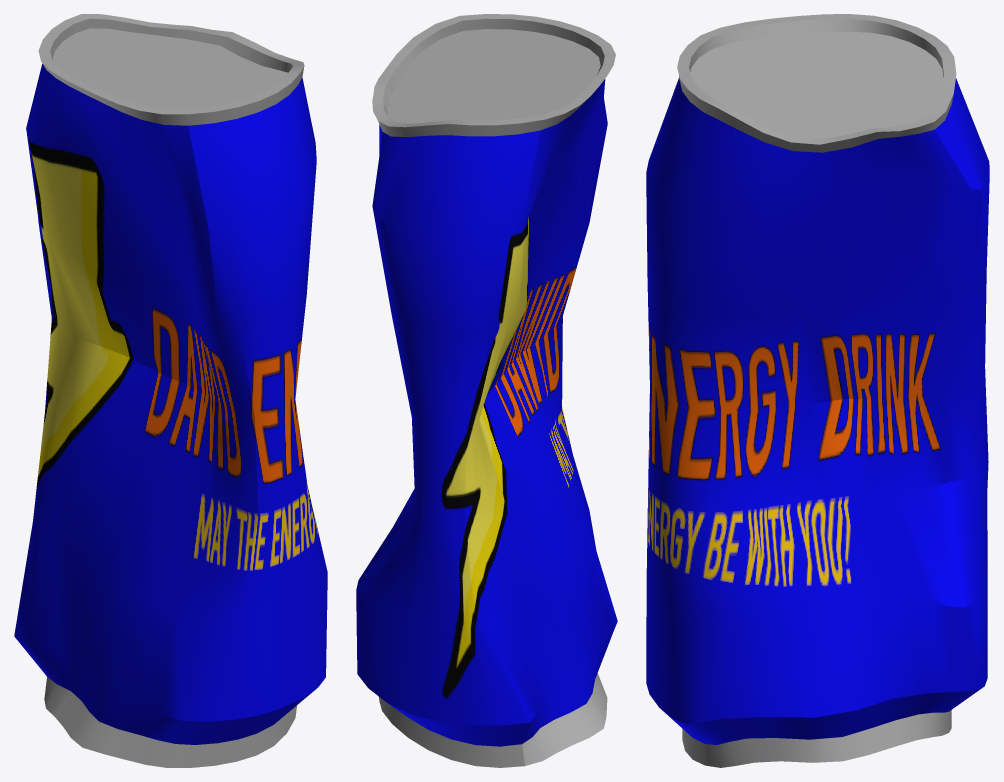
File: puszkawgniecona.fbx
3 renders of one model, left to right at view 1: azimuth 30°, elevation 25°; view 2: azimuth 150°, elevation 25°; view 3: azimuth 270°, elevation 25°, orthographic. The views are drawn at different scales.
Visible parts, largest first — view 1: Walec; view 2: Walec; view 3: Walec.
Part boxes in pixels (<box>): Walec: <box>14,14,327,767</box>; Walec: <box>356,14,617,767</box>; Walec: <box>646,14,989,767</box>.
Size of the model in its own units: 154 by 435 by 201.
